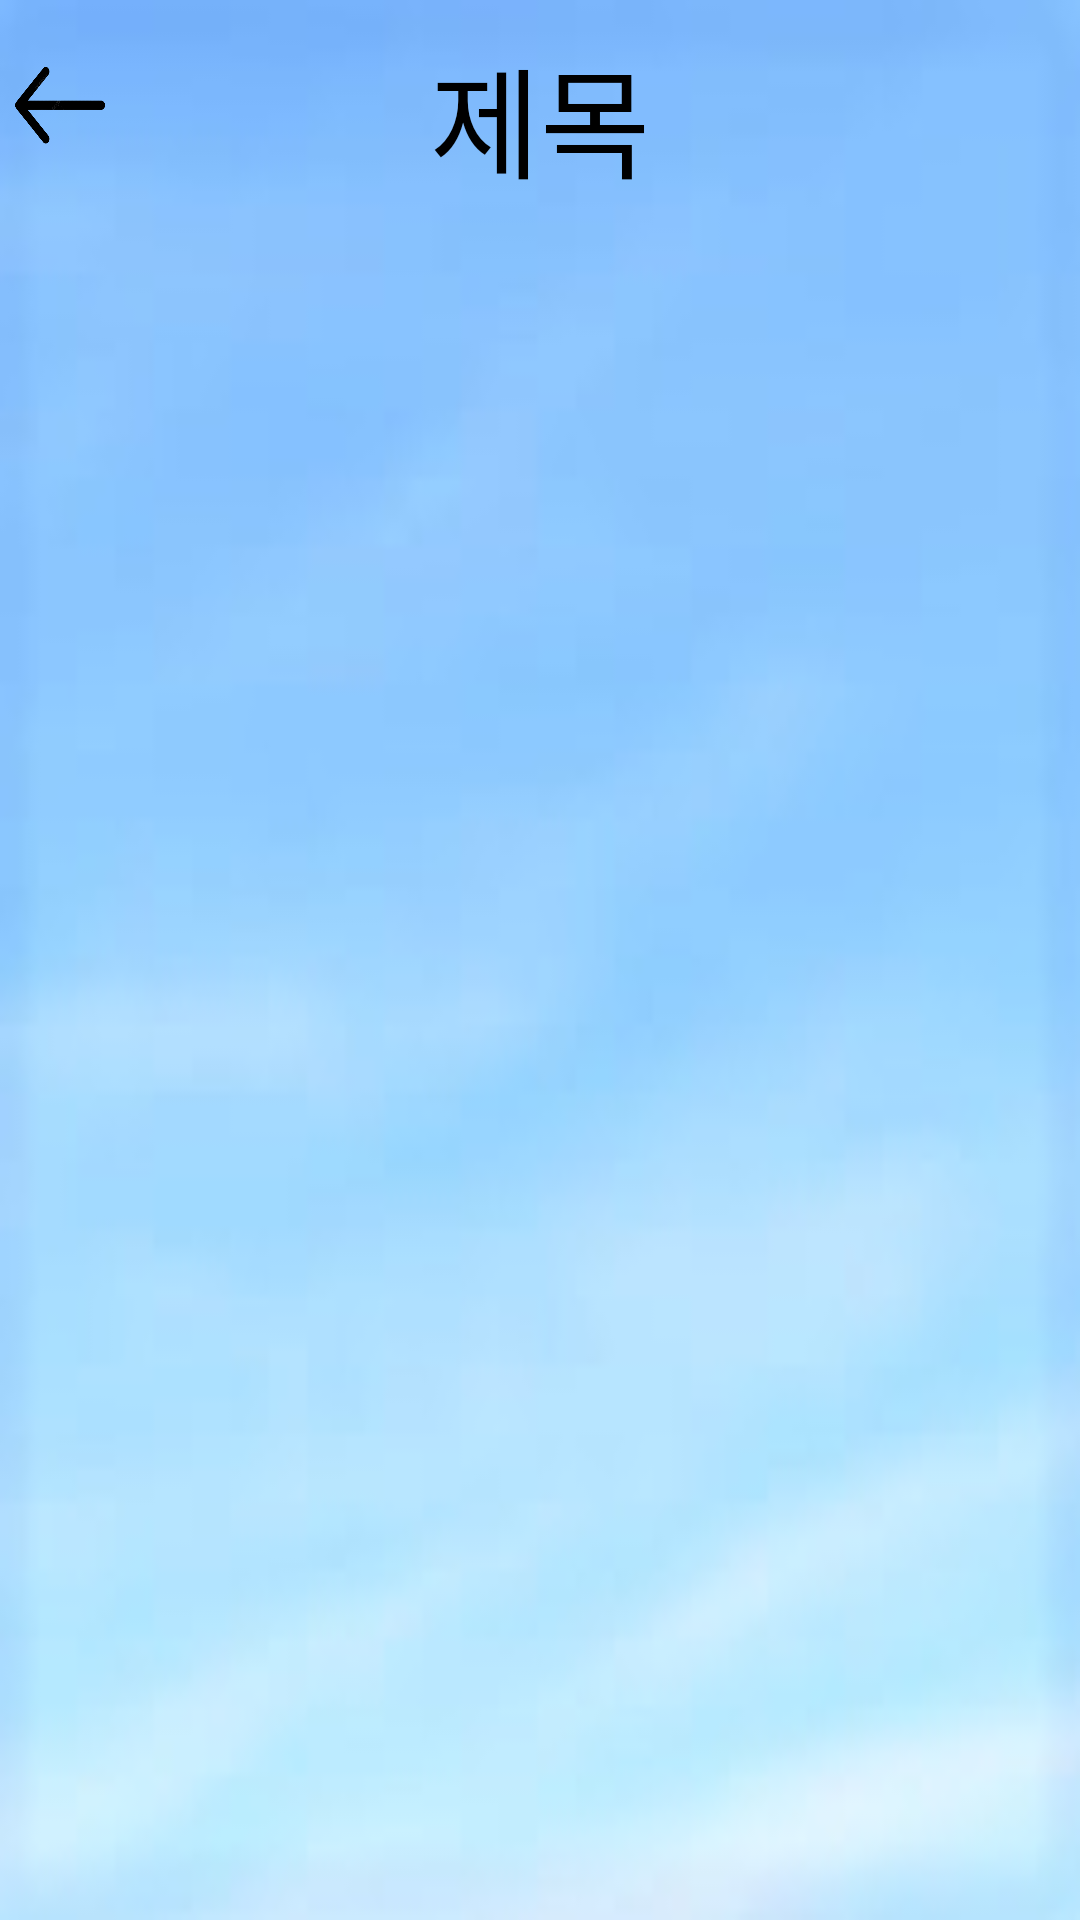

Locate icon controls on the screen. Image size 1080px×1920px, boxes as [x1=x1, y1=y1, x2=x2, y2=y2].
backbuttonicon: [x1=15, y1=67, x2=105, y2=144]
